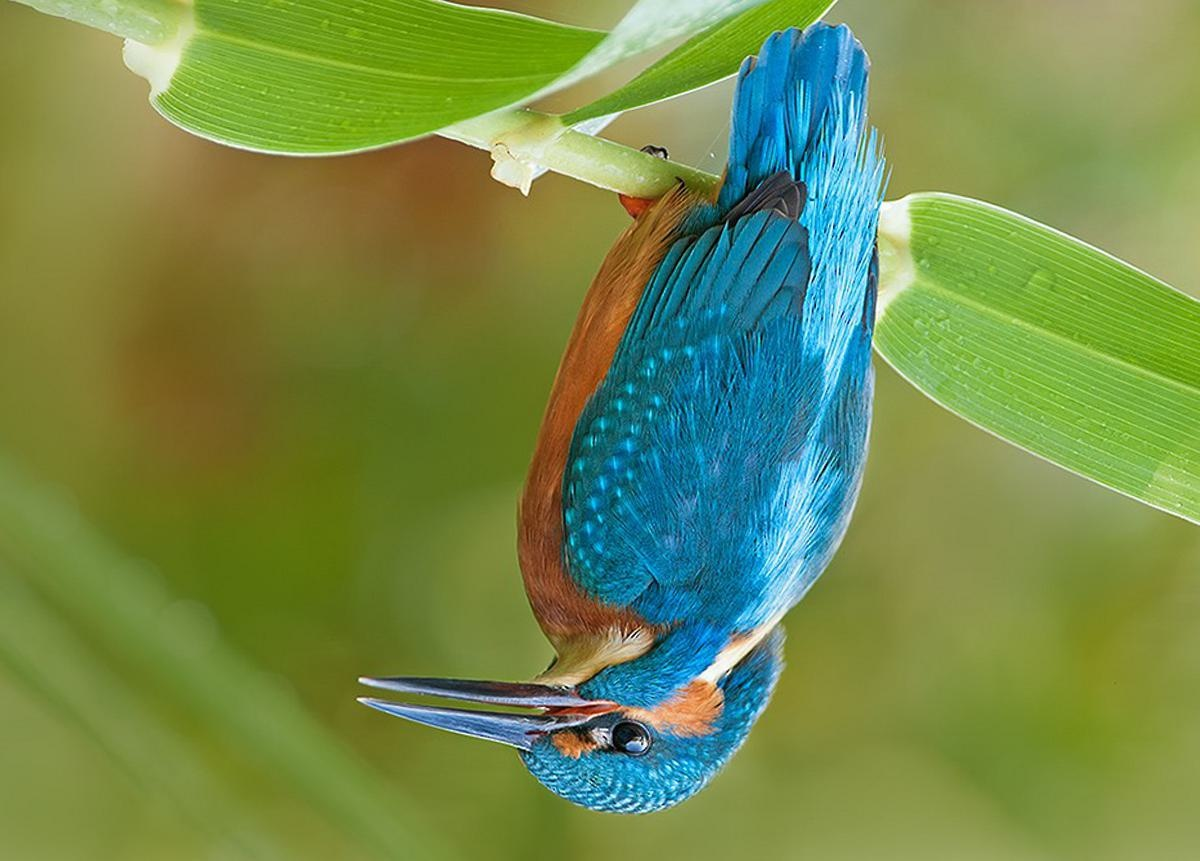kingfisher: (337, 70, 982, 800)
